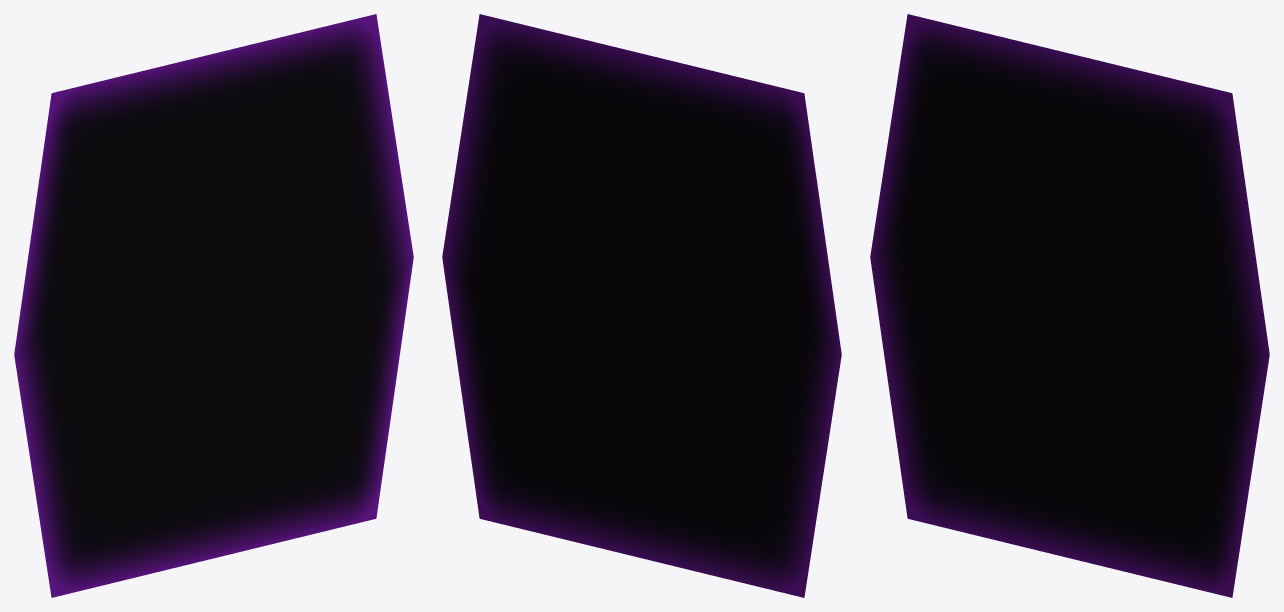
Rendered from FX_lfl_csm_boss10040.FBX.
The picture shows the model from 3 angles, left to right: view 1: azimuth 30°, elevation 25°; view 2: azimuth 150°, elevation 25°; view 3: azimuth 330°, elevation 25°; orthographic projection.
Visible parts, largest first — view 1: Plane002; view 2: Plane002; view 3: Plane002.
Boxes of the visible parts, box(x1,y1,x2,y2) form: Plane002: box(14, 14, 413, 597); Plane002: box(442, 14, 841, 597); Plane002: box(870, 14, 1269, 597).
Size of the model in its own units: 84.39 by 102 by 1.66e-05.
